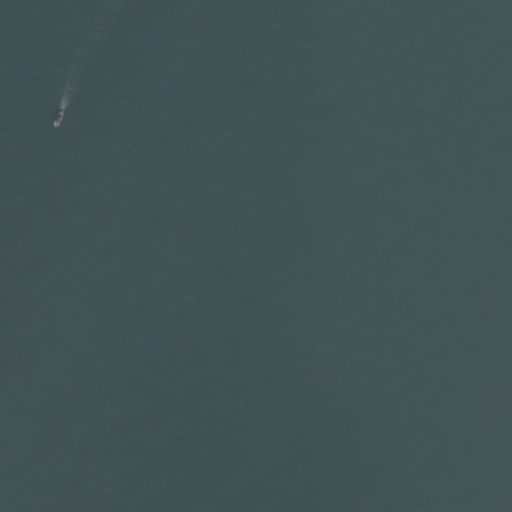ship: (50, 108, 67, 129)
